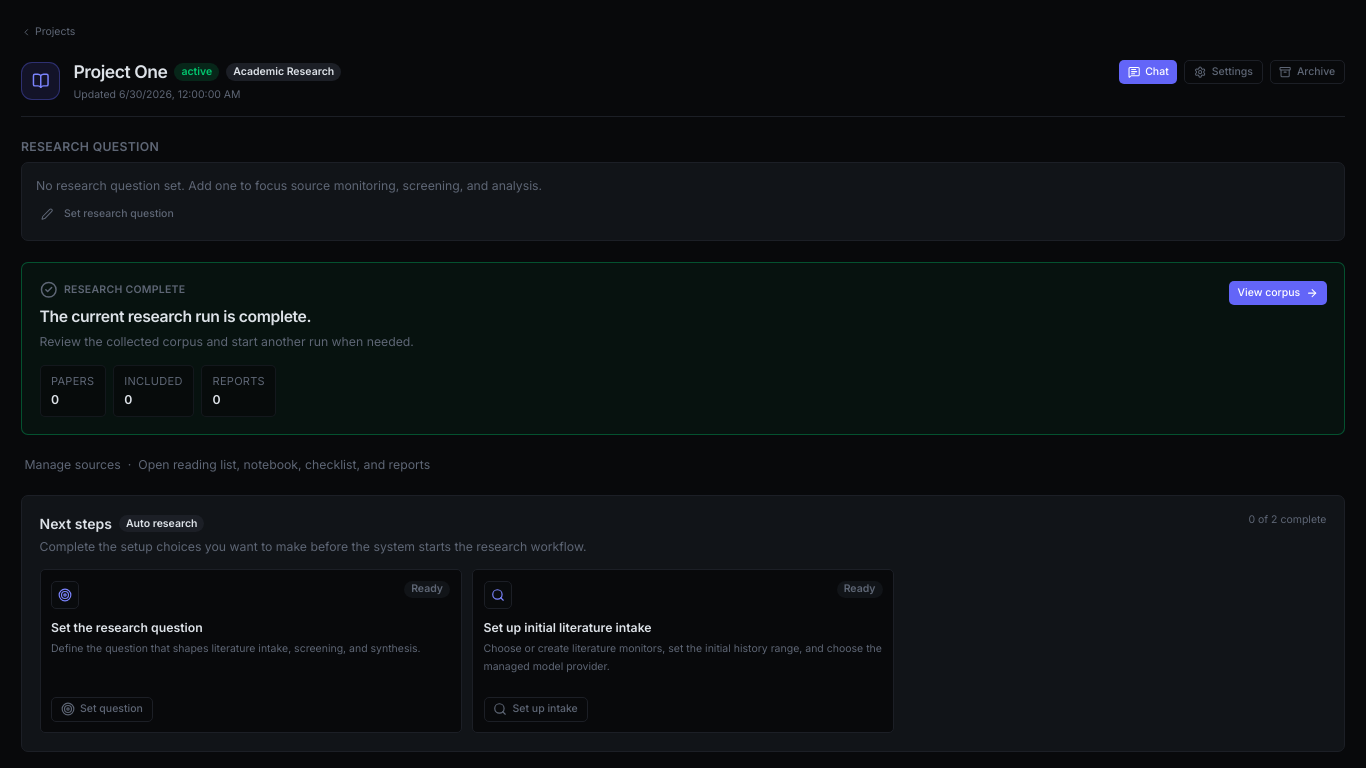
Test: ProjectDetailPage Source consumption › warns that saving a changed question does not rewrite started research
Click the button "Settings". click: (1224, 72)
box: x1=1184 y1=60 x2=1263 y2=84
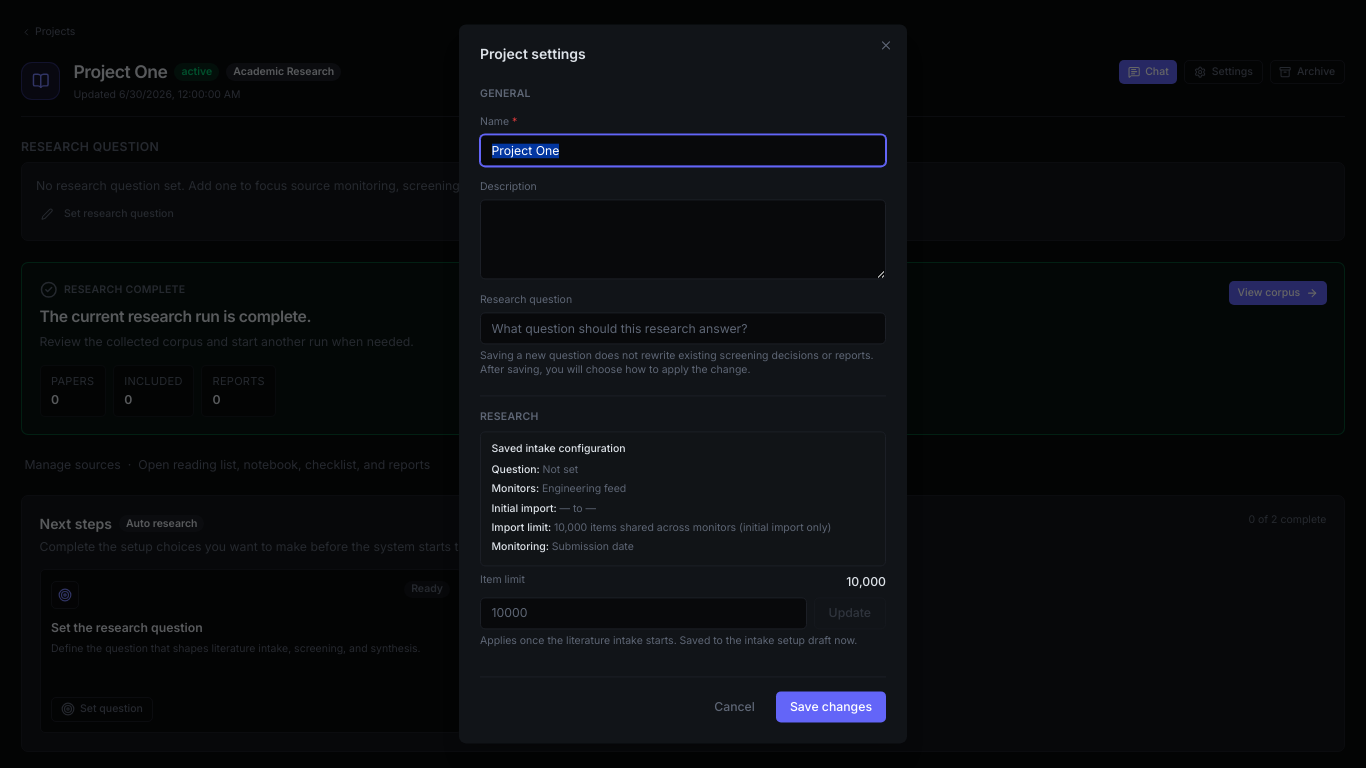
expect the text "Saving a new question does not rewrite existing screening decisions or reports" is shown: met, box x1=480 y1=349 x2=874 y2=376
